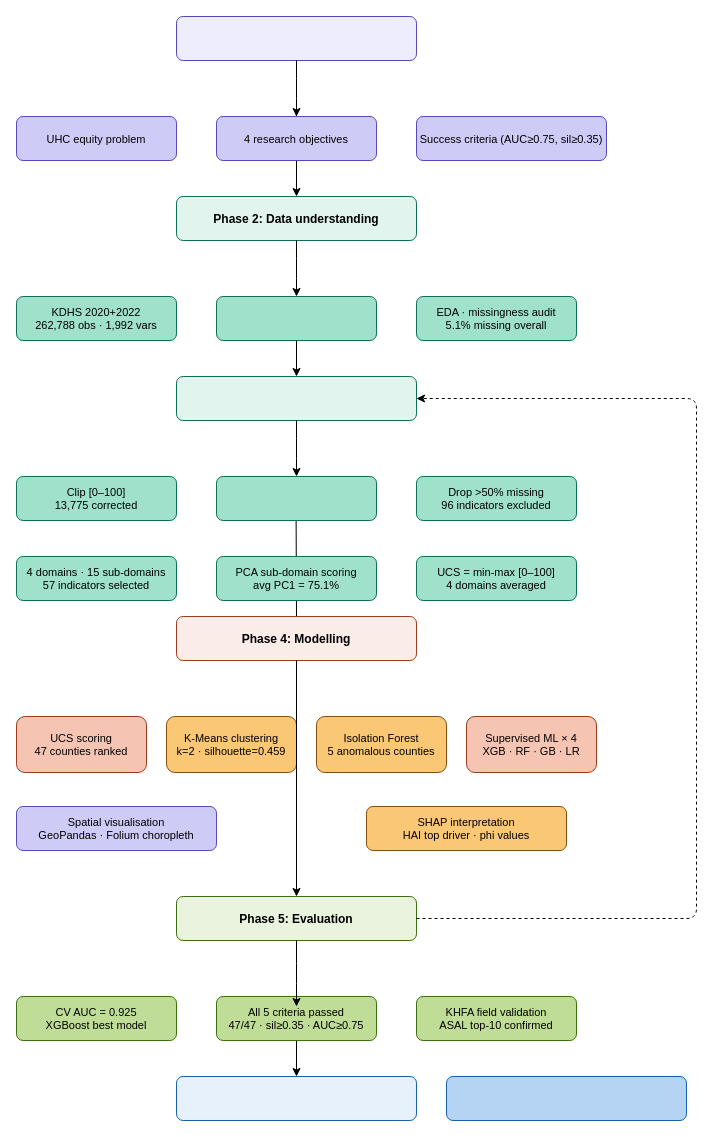
Image size: 713x1137. Some labels were removed from this diagram. The box of each missing label's shape, as (x1, y1, x2, y2) in pixels:
DHS API extraction 121,863 county rows: (216, 296, 376, 340)
Outlier retention |Z|>3 kept (equity signal): (216, 476, 376, 520)
Phase 1: Business understanding: (176, 16, 416, 60)
Phase 3: Data preparation: (176, 376, 416, 420)
Phase 6: Deployment (Web application): (176, 1076, 416, 1120)
Policy Recommendation: (446, 1076, 686, 1120)
